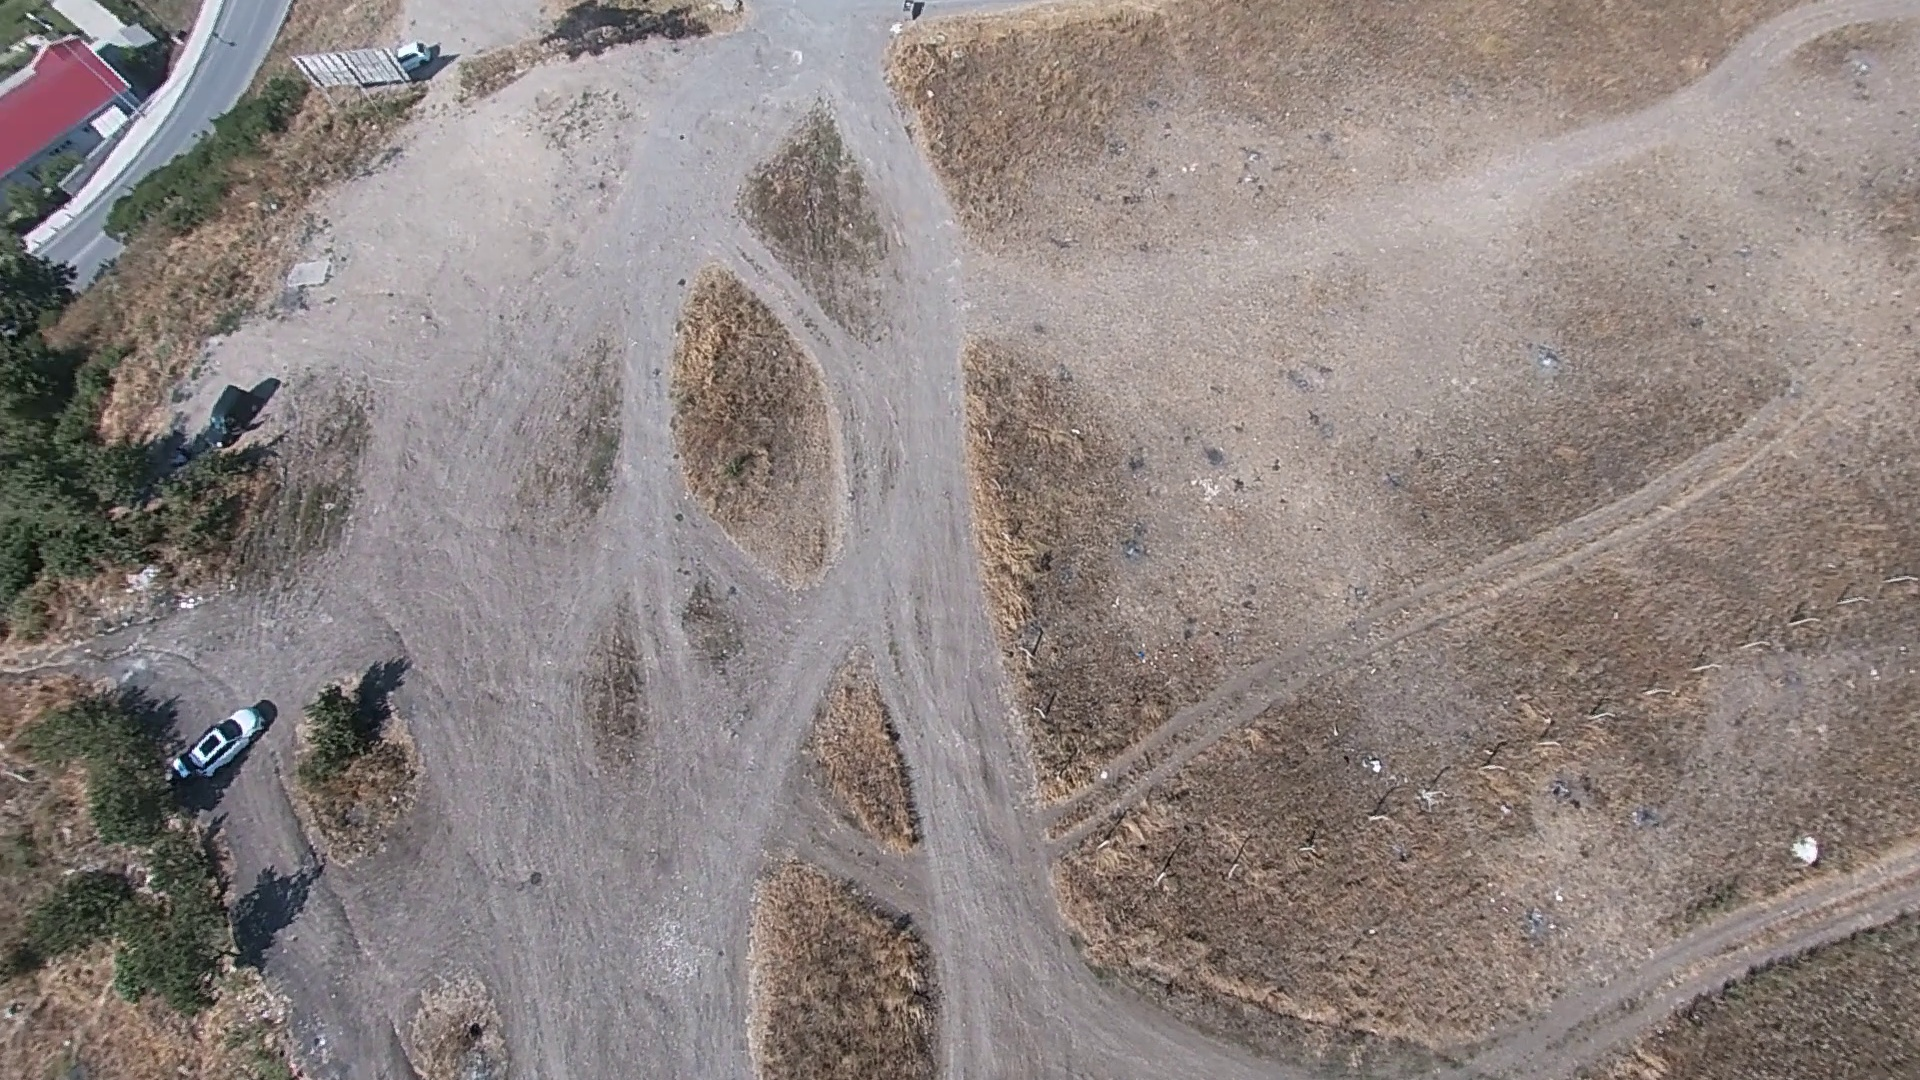araba: (166, 702, 270, 785), (204, 386, 245, 446), (394, 41, 431, 71)
